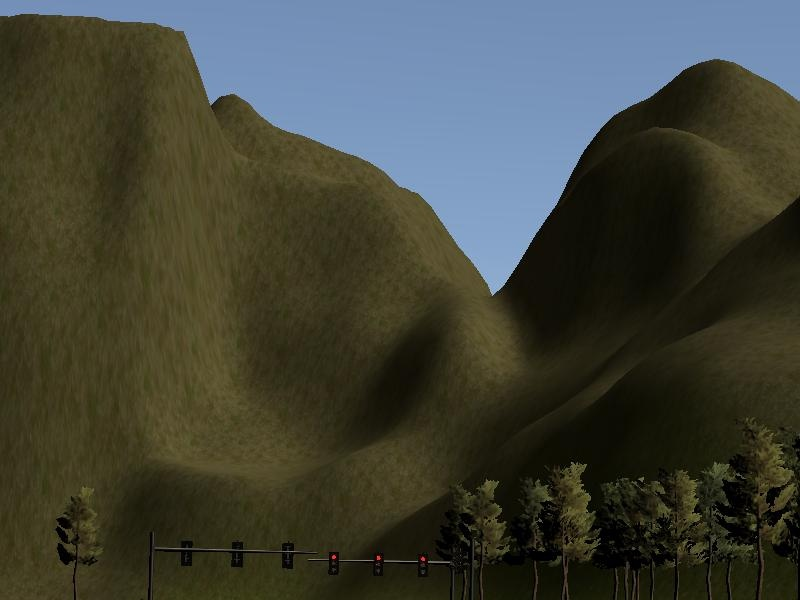red: (416, 553, 430, 579), (328, 553, 340, 576), (372, 553, 384, 576)
